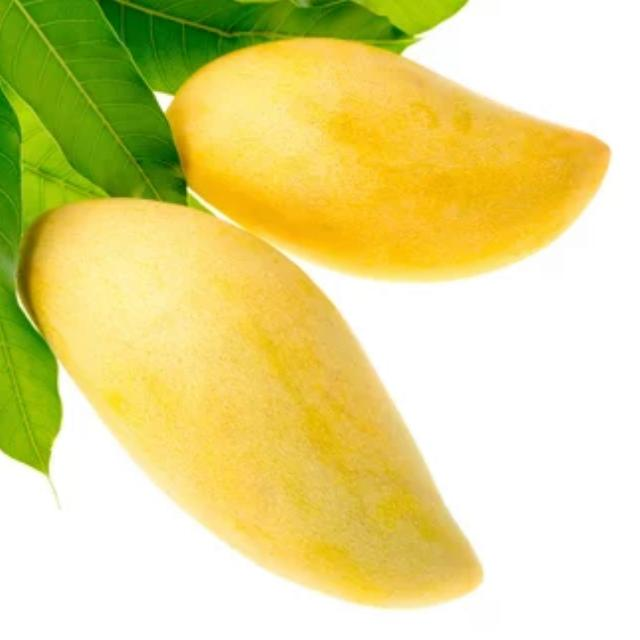mango: (11, 196, 485, 606), (160, 36, 613, 280)
